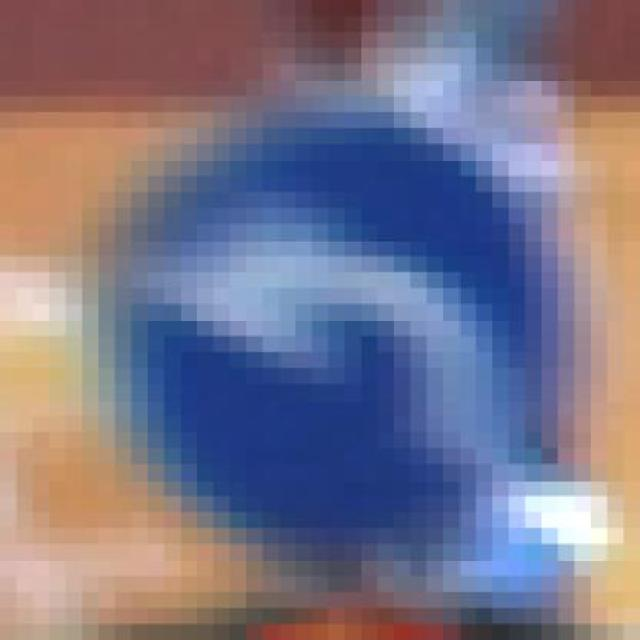Turn left ahead: (81, 94, 607, 574)
